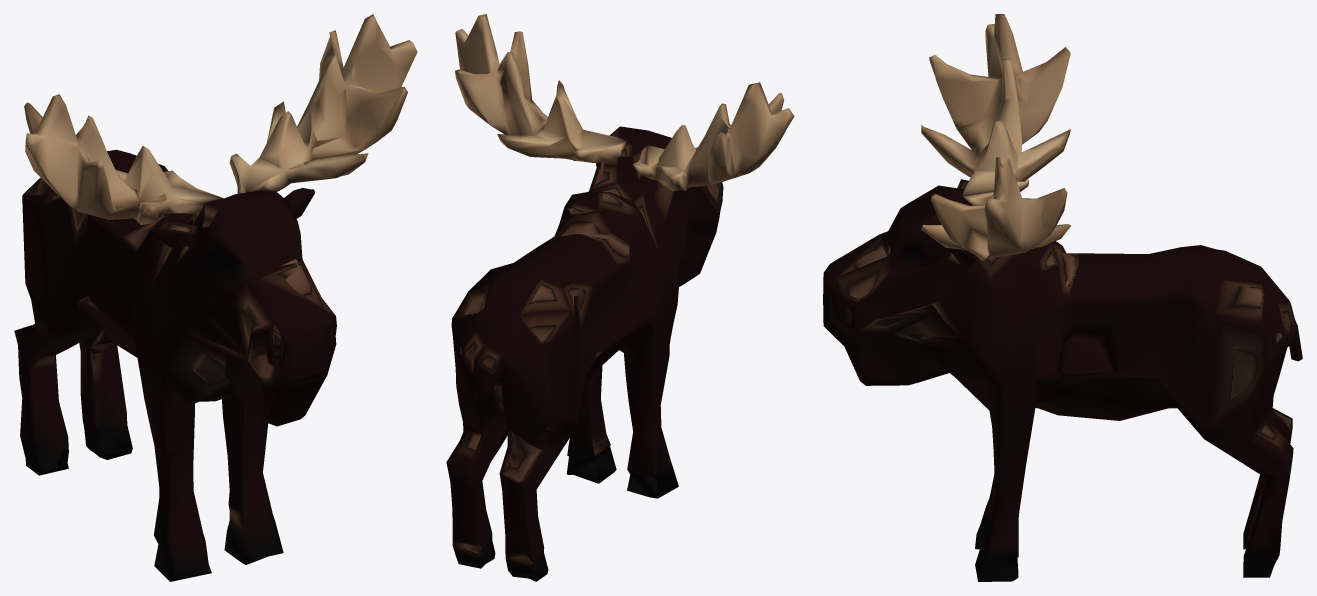
Rendered from gen3d-moose-lod0.glb.
3 renders of one model, left to right at view 1: azimuth 30°, elevation 25°; view 2: azimuth 150°, elevation 25°; view 3: azimuth 270°, elevation 25°, orthographic. The views are drawn at different scales.
Visible parts, largest first — view 1: part_0; view 2: part_0; view 3: part_0.
Boxes of the visible parts, bbox=[...] form: part_0: bbox=[14, 14, 417, 581]; part_0: bbox=[446, 14, 794, 581]; part_0: bbox=[823, 14, 1302, 581].
Bounding box in the file's own units: 0.8044 × 0.997 × 0.916.
